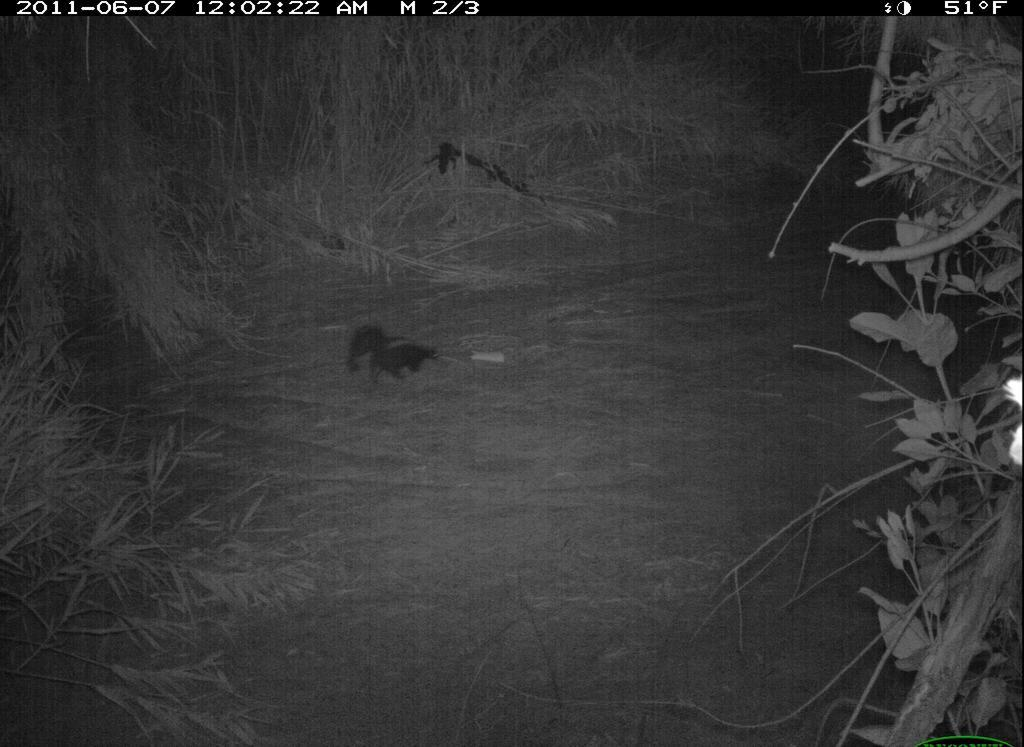skunk: (355, 304, 455, 395)
